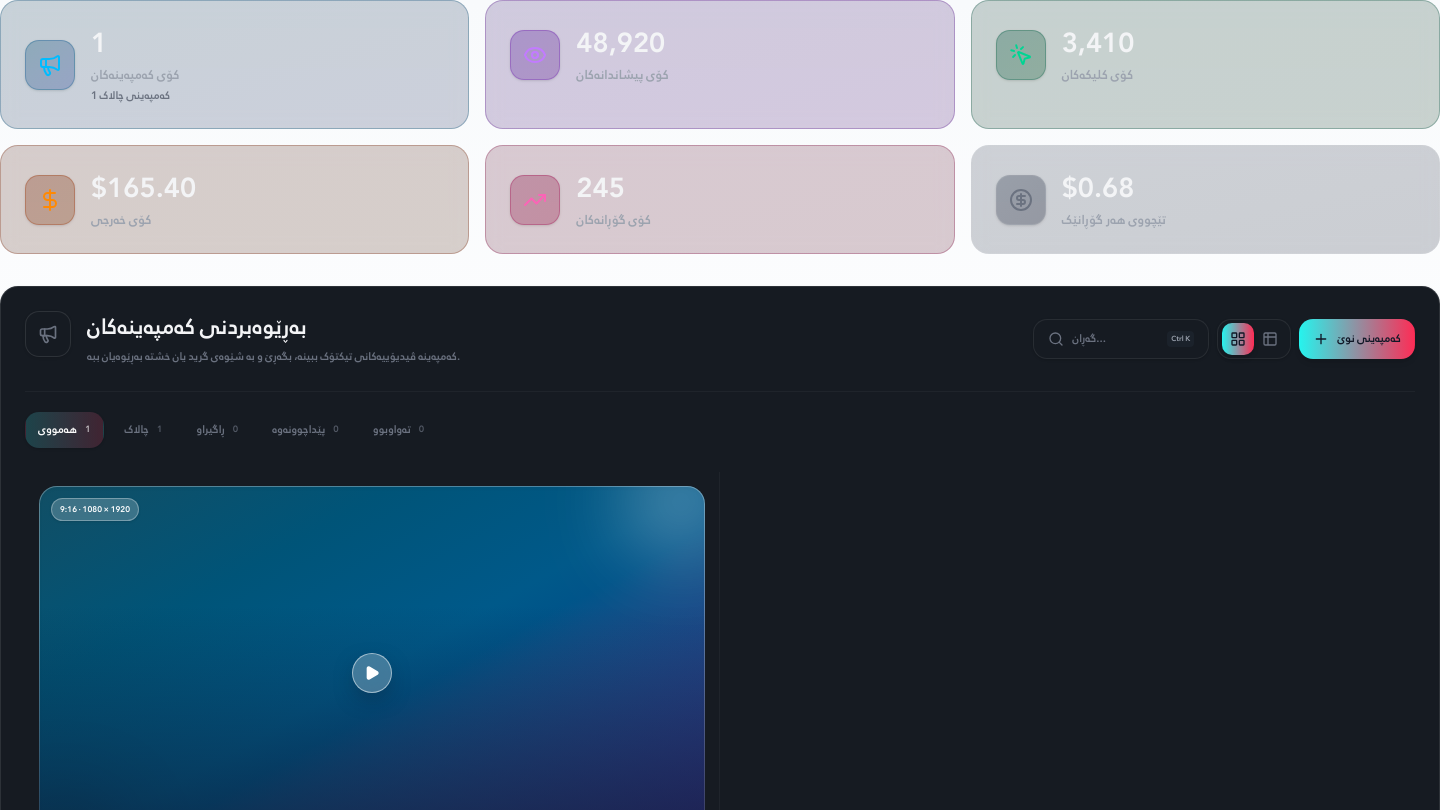
Test: PlatformCampaignsPage › switches between the campaign grid and shared management table
What coordinates should you click on to do the following:
click the button named "بینینی خشتە"
I would click on:
 (1270, 339)
Its box is [1254,323,1286,355].
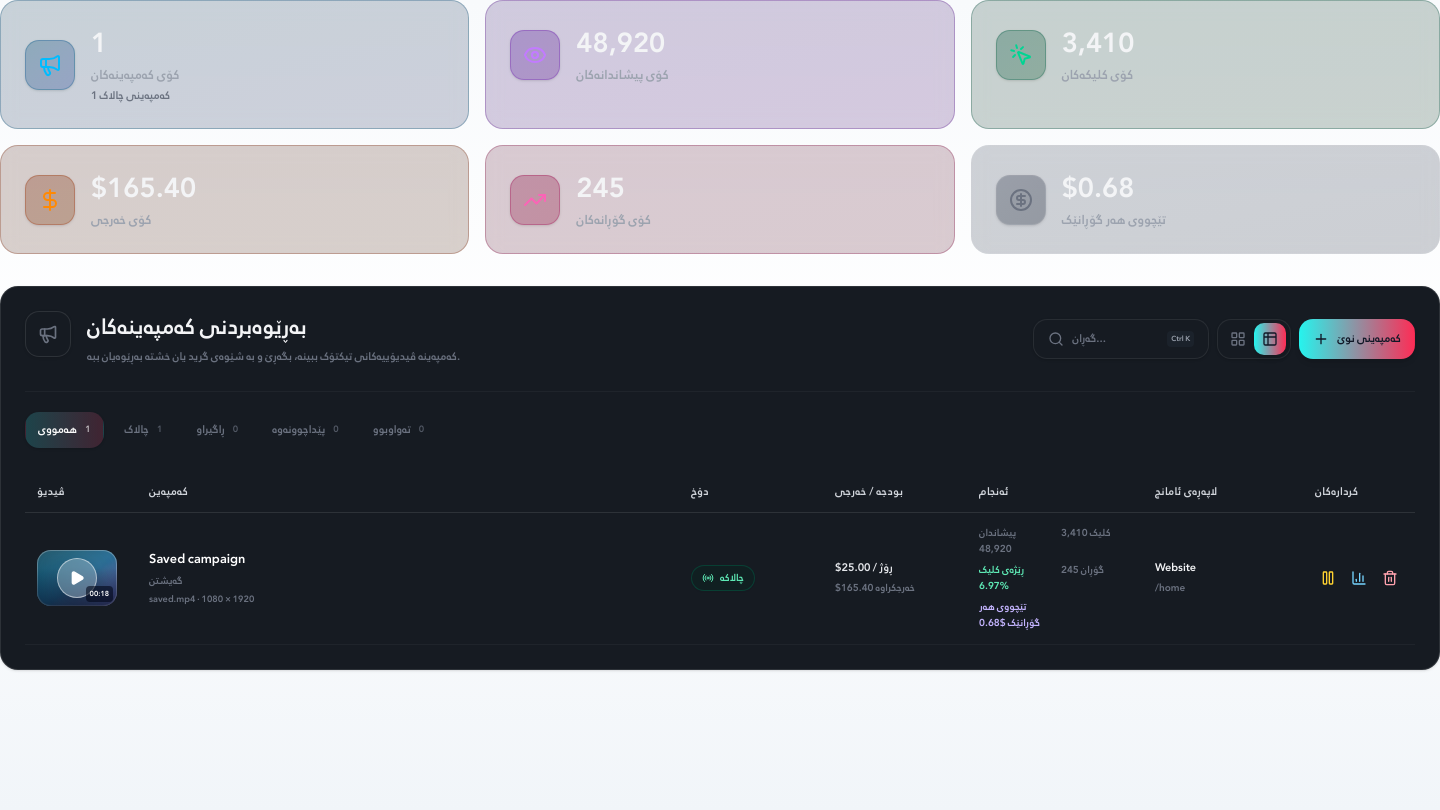
expect the column heading "ڤیدیۆ" is shown: met, box [25,472,137,512]
expect the column heading "بودجە / خەرجی" is shown: met, box [823,472,967,512]
